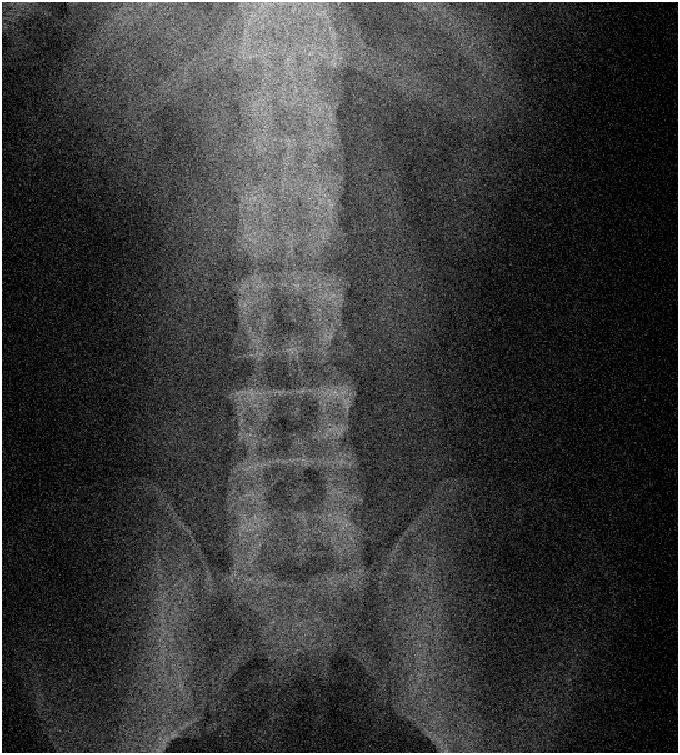lumbar scoliosis: (226, 192, 372, 558)
